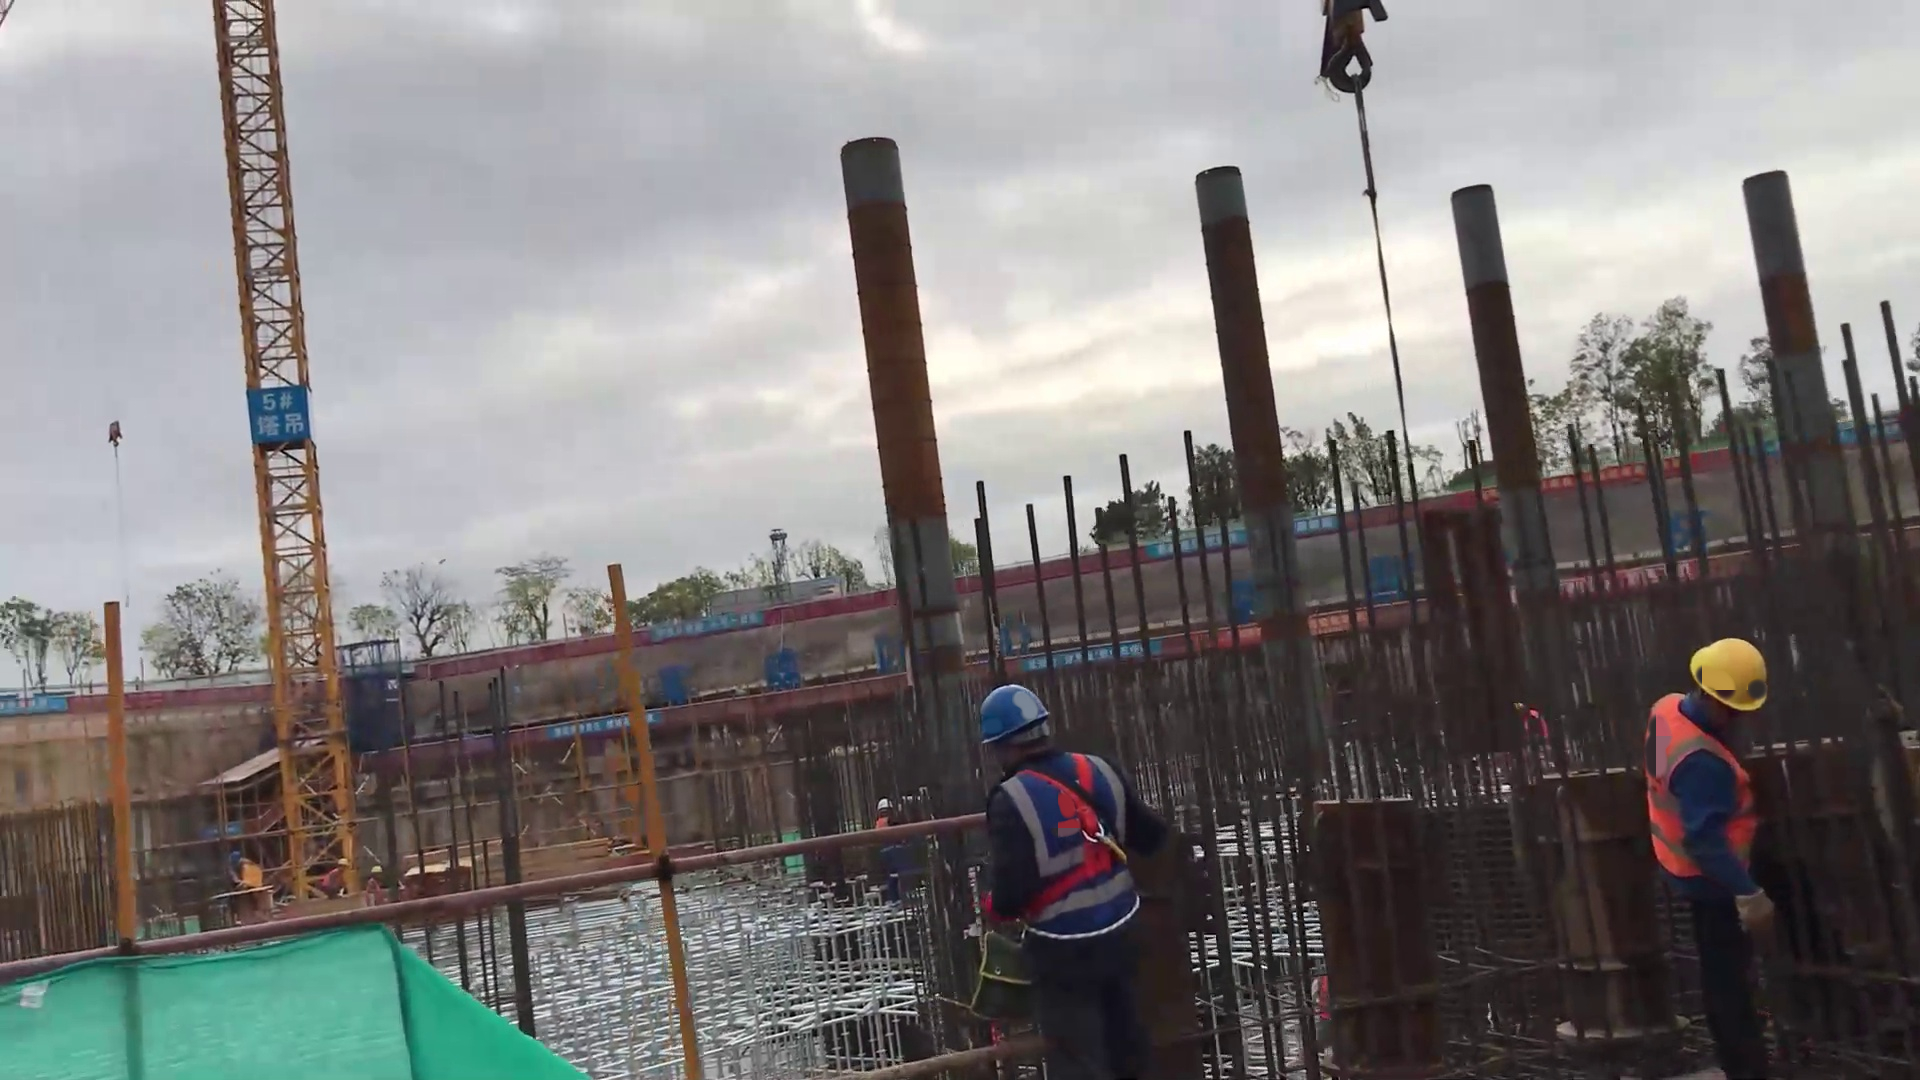helmet: (1687, 634, 1772, 713), (976, 684, 1058, 751)
hook: (1310, 4, 1394, 98)
person: (973, 681, 1172, 1080), (1634, 631, 1781, 1080)
vest: (1001, 746, 1145, 932), (1634, 689, 1755, 890)
